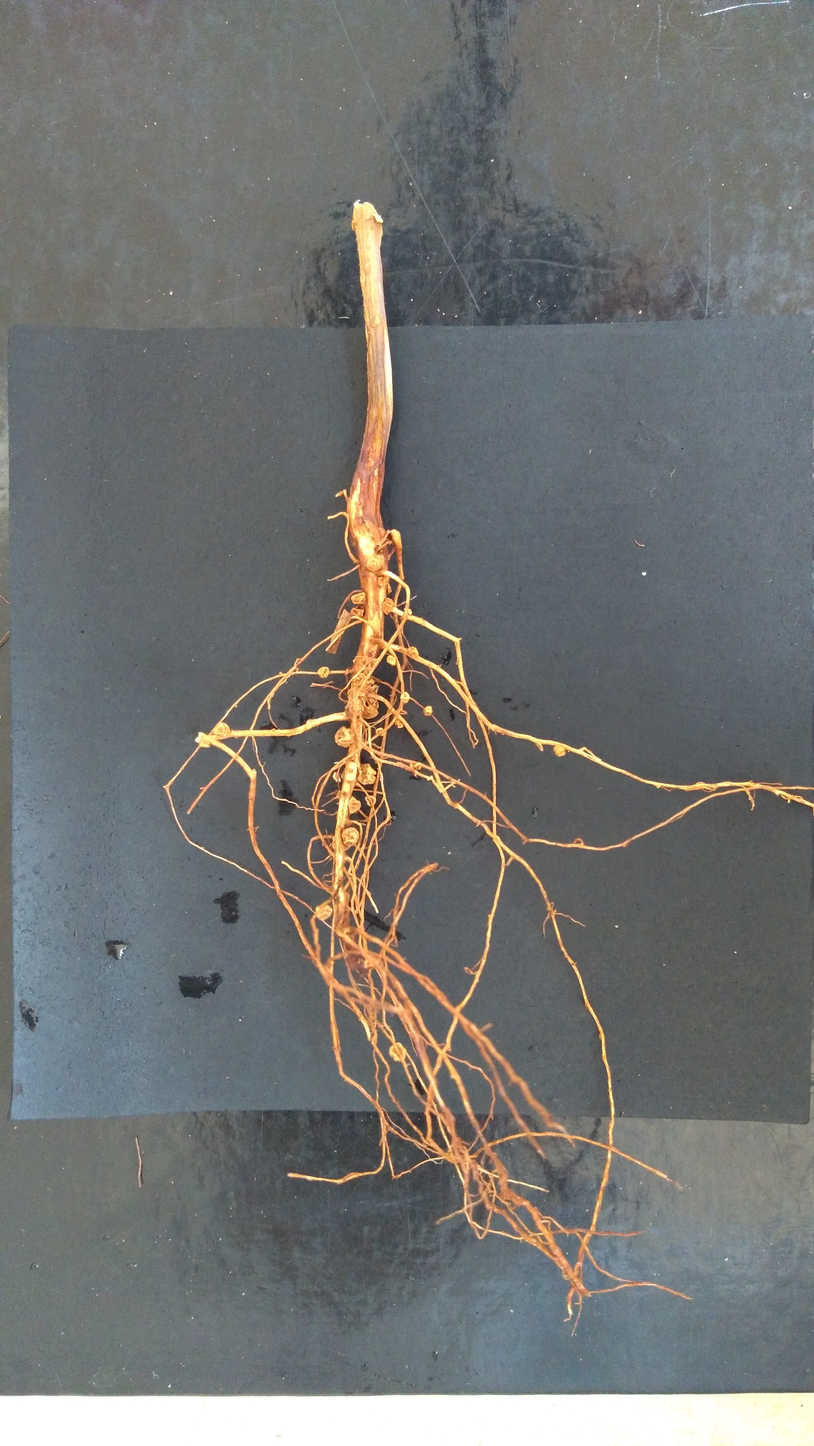nodule: (333, 725, 356, 750), (356, 762, 377, 787), (340, 825, 360, 848), (388, 1040, 408, 1063), (314, 902, 334, 922), (347, 794, 362, 816), (380, 597, 396, 617), (212, 721, 233, 736), (365, 556, 381, 573), (363, 704, 379, 721), (197, 731, 211, 749), (350, 591, 366, 605), (552, 744, 568, 758), (316, 666, 330, 680), (376, 574, 390, 587), (422, 704, 435, 718), (407, 645, 419, 660), (385, 654, 397, 668), (364, 794, 376, 808), (350, 607, 365, 618), (399, 691, 411, 704), (394, 718, 405, 729), (332, 771, 341, 784), (375, 727, 386, 737), (412, 761, 423, 771), (385, 583, 393, 595), (403, 607, 413, 615)
